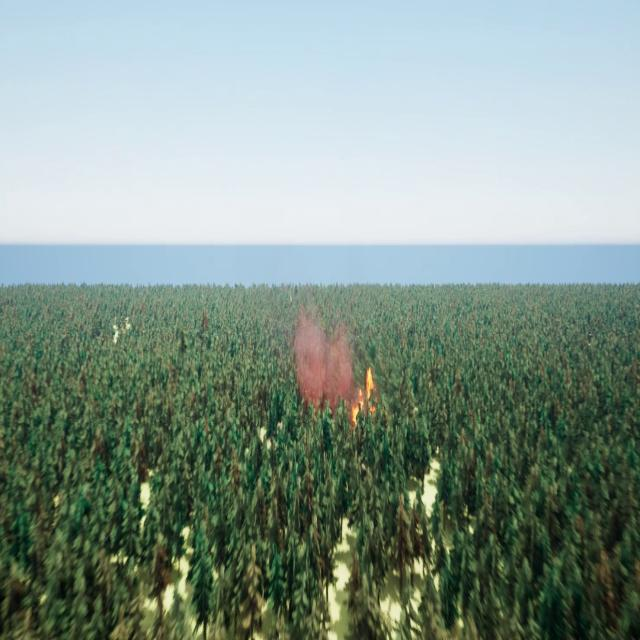fire: (354, 370, 379, 422)
smoke: (292, 299, 355, 410)
